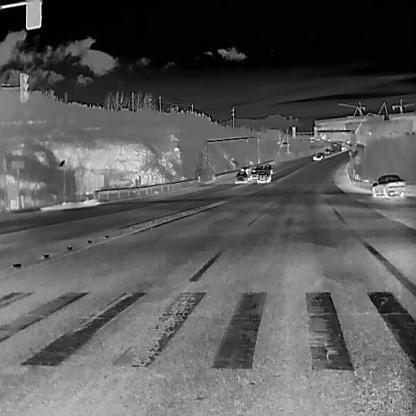car: (370, 173, 405, 199), (256, 167, 270, 182), (234, 170, 248, 184), (250, 167, 258, 179), (264, 163, 272, 173), (312, 152, 320, 160), (317, 151, 323, 159), (324, 147, 330, 154), (330, 148, 334, 154), (346, 139, 350, 144), (326, 136, 330, 141), (332, 142, 336, 146)
truck: (238, 166, 253, 180), (340, 141, 346, 150)
